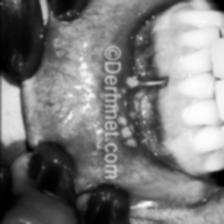Toxin: (112, 76, 138, 148)
